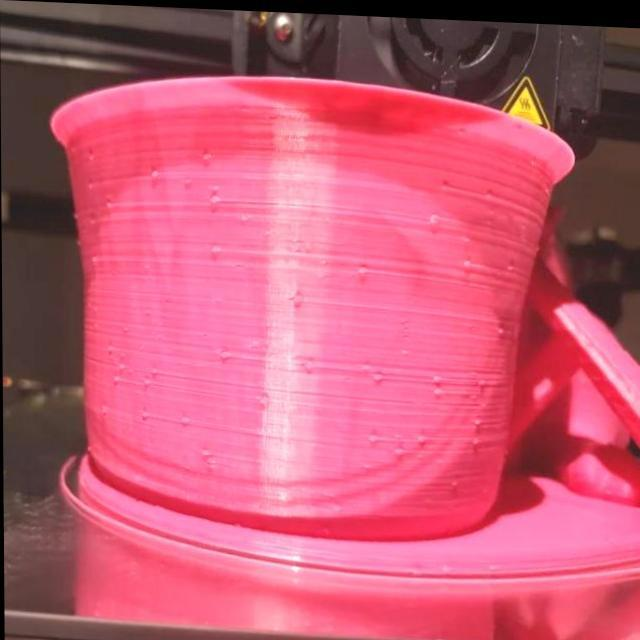zits: (204, 238, 228, 258), (354, 258, 374, 280), (205, 190, 222, 210), (428, 379, 446, 397), (369, 366, 385, 384), (364, 426, 380, 443), (302, 356, 318, 372), (426, 366, 444, 380), (146, 365, 162, 380), (413, 426, 429, 440), (148, 166, 163, 180), (474, 370, 488, 385), (202, 456, 216, 471), (200, 148, 214, 162), (116, 358, 130, 372), (392, 441, 407, 454), (470, 410, 484, 423), (462, 252, 474, 266), (136, 408, 152, 418), (110, 372, 120, 386), (140, 377, 152, 388), (470, 430, 480, 443), (179, 416, 192, 426), (201, 446, 212, 456), (90, 255, 100, 266)
